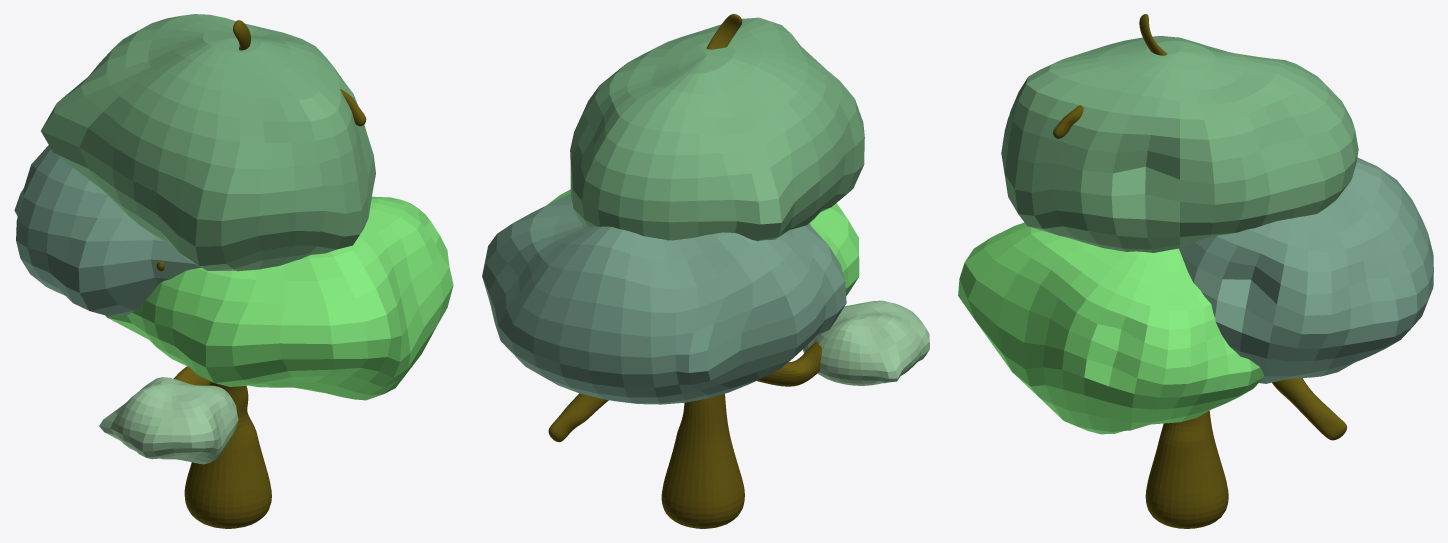
Rendered from Мудрое древо.fbx.
3 views of the same model, side by side, from view 1: azimuth 30°, elevation 25°; view 2: azimuth 150°, elevation 25°; view 3: azimuth 270°, elevation 25° (orthographic). The views are drawn at different scales.
Parts seen in each view (by area): view 1: Сфера, Сфера.003, Сфера.001, Сфера.002, Плоскость; view 2: Сфера.001, Сфера, Плоскость, Сфера.002, Сфера.003; view 3: Сфера, Сфера.003, Сфера.001, Плоскость.
Part boxes in pixels (x1,y1,x2,y2): Сфера: (41, 14, 375, 271); Сфера.003: (105, 196, 453, 400); Сфера.001: (14, 145, 200, 315); Сфера.002: (99, 377, 238, 464); Плоскость: (156, 20, 366, 528); Сфера.001: (482, 194, 846, 404); Сфера: (570, 17, 864, 241); Плоскость: (548, 14, 821, 528); Сфера.002: (803, 300, 929, 385); Сфера.003: (547, 189, 859, 295); Сфера: (1001, 36, 1358, 252); Сфера.003: (958, 222, 1264, 434); Сфера.001: (1179, 157, 1433, 383); Плоскость: (1053, 14, 1347, 528).
Size of the model in its own units: 515 by 700 by 602.
